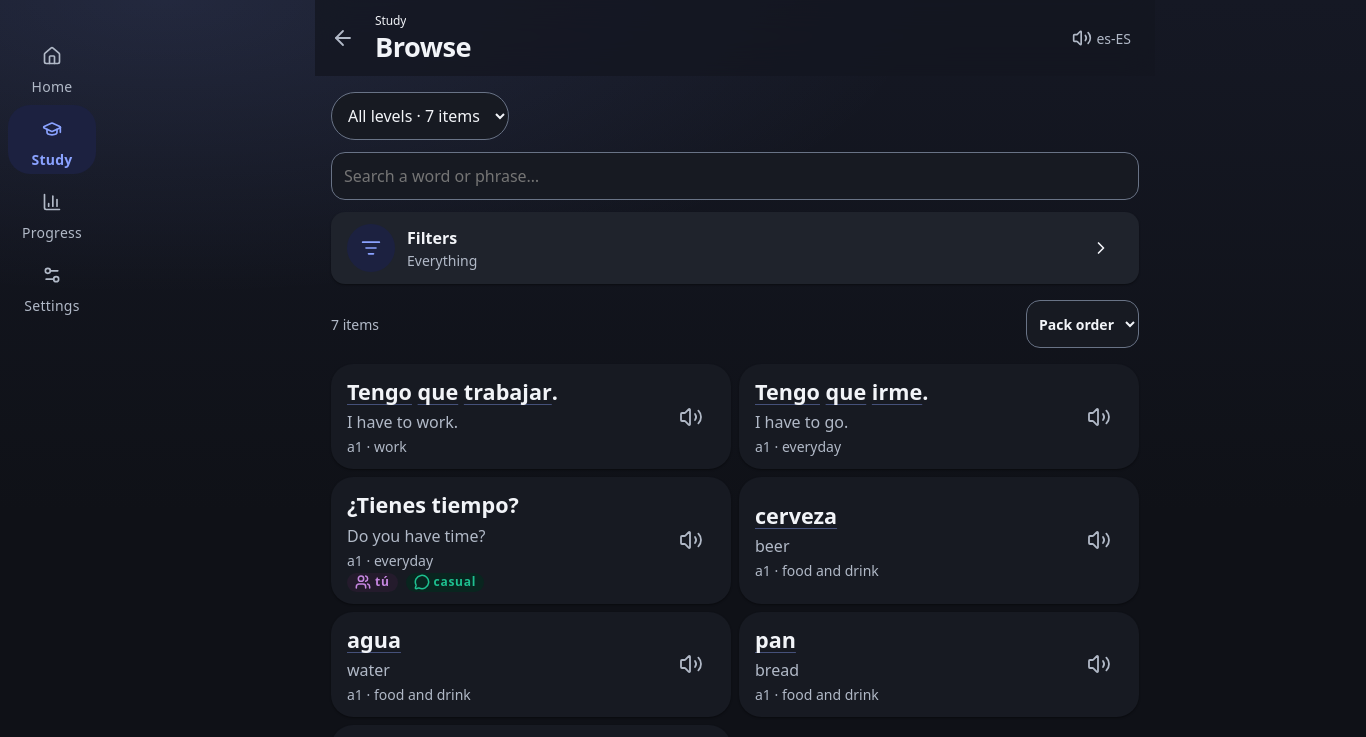
inspection outside a practice card › names a word by the phrase it is in, so a list stays pickable
Check: the text "7 items" is shown, box [331,314,379,334]
Click the button with aria-label "About “Tengo” in “Tengo que trabajar.”". click: click(380, 392)
box: [347,376,412,408]
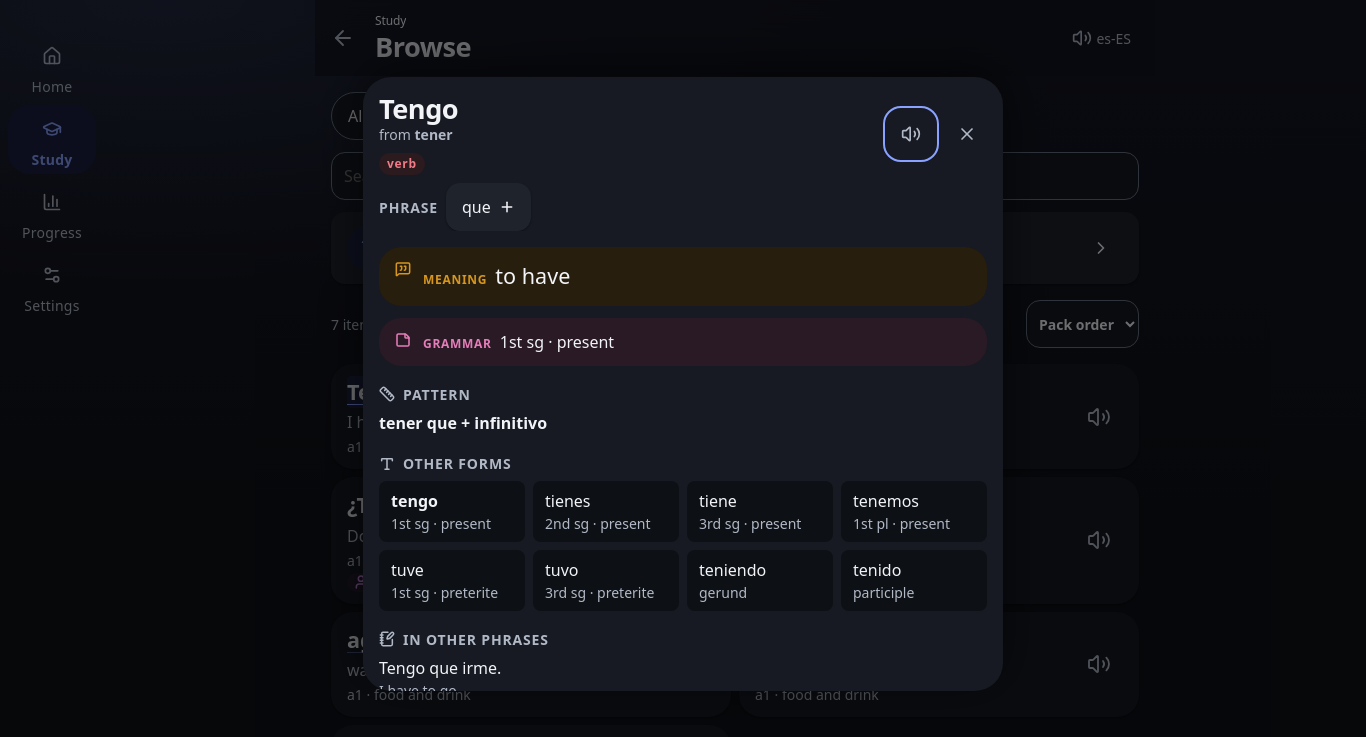
Check: the dialog named "About Tengo" shows "to have", box [495,261,570,290]
